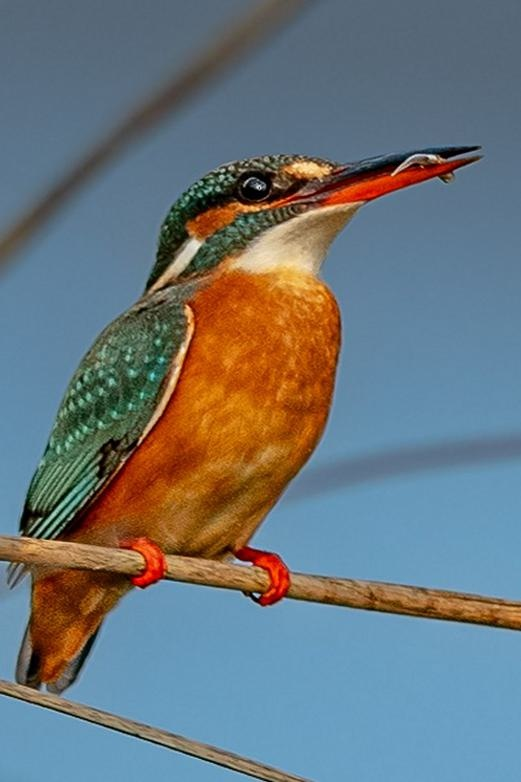kingfisher: (22, 116, 492, 713)
